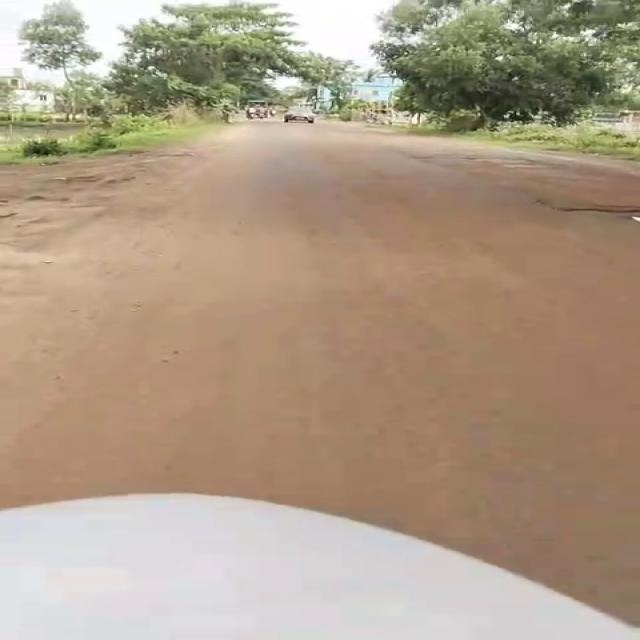pothole: (433, 155, 531, 165), (551, 205, 640, 215), (497, 163, 565, 172)
